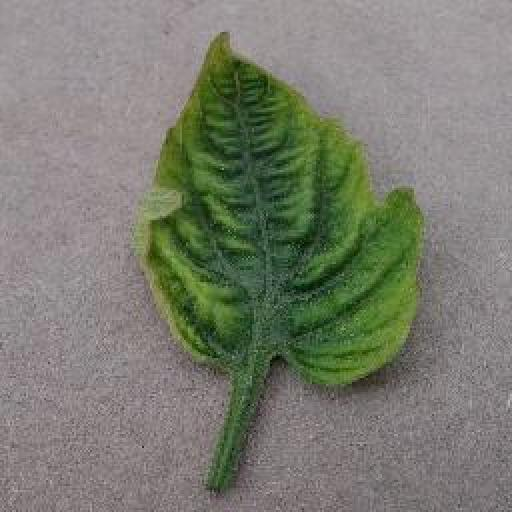disease_tomato: (136, 30, 426, 392)
